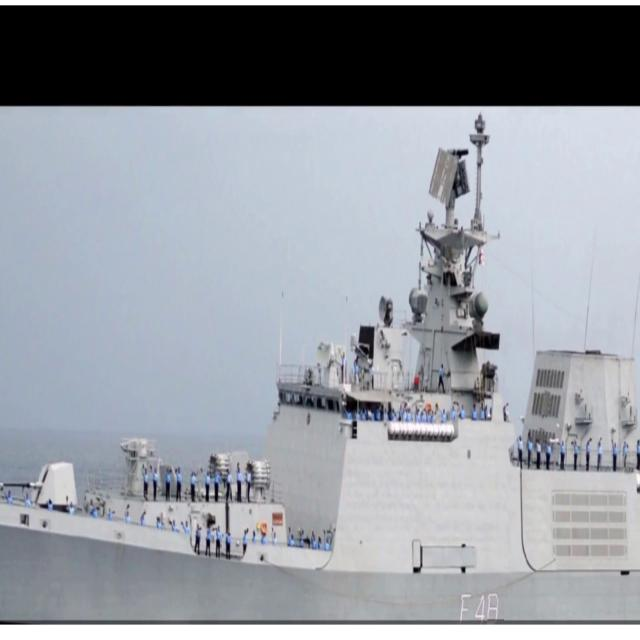OCR: (452, 586, 504, 623)
